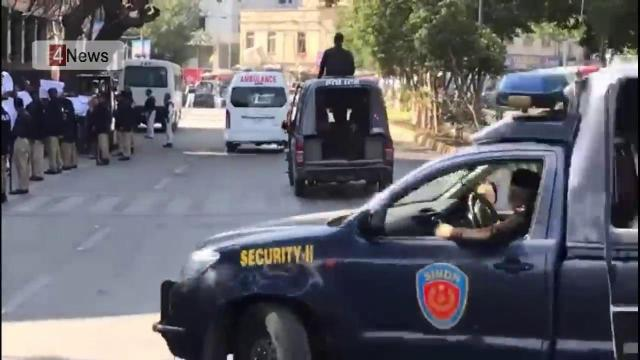police: (153, 65, 640, 359)
